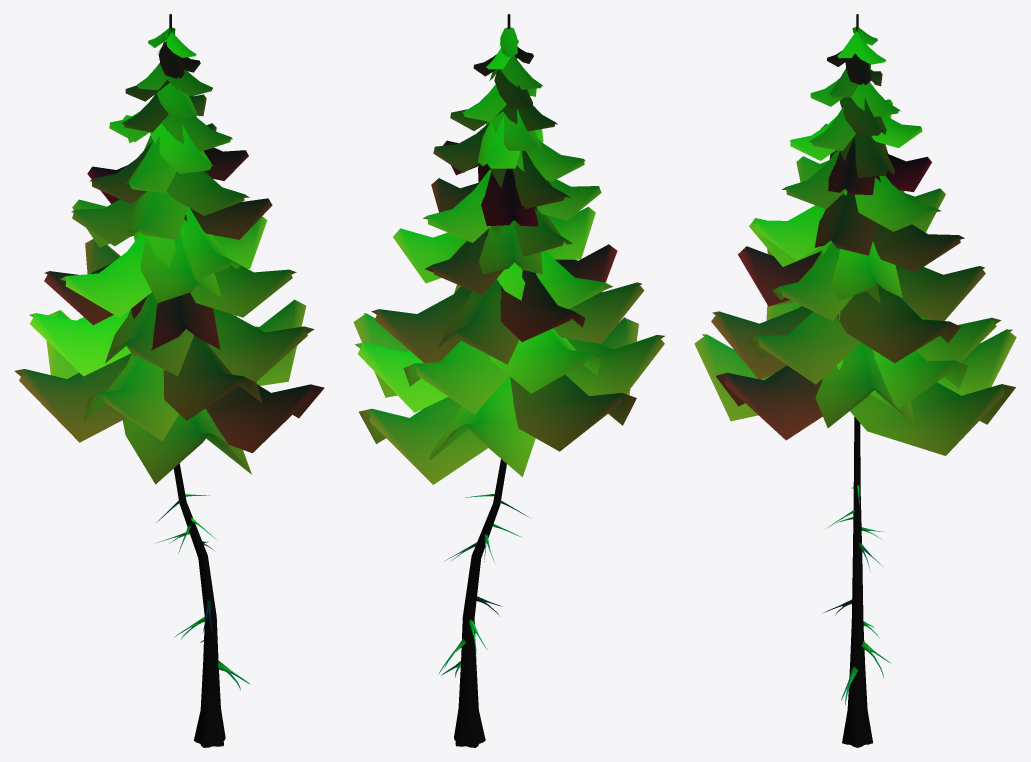
The model's file is M_Pine_6_12.fbx.
3 views of the same model, side by side, from view 1: azimuth 30°, elevation 25°; view 2: azimuth 150°, elevation 25°; view 3: azimuth 270°, elevation 25° (orthographic). The views are drawn at different scales.
Parts seen in each view (by area): view 1: Tree_12; view 2: Tree_12; view 3: Tree_12.
Boxes of the visible parts, bbox=[...] form: Tree_12: bbox=[14, 14, 324, 747]; Tree_12: bbox=[353, 14, 664, 747]; Tree_12: bbox=[694, 14, 1016, 747].
Size of the model in its own units: 1014 by 2543 by 1049.
